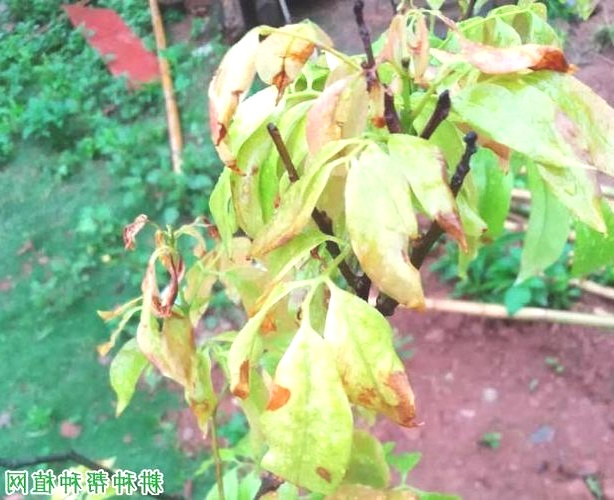Anthracnose: (182, 290, 319, 456), (223, 12, 339, 160), (386, 20, 563, 115), (104, 207, 202, 340), (388, 190, 481, 294), (343, 351, 406, 428), (256, 187, 316, 260)
